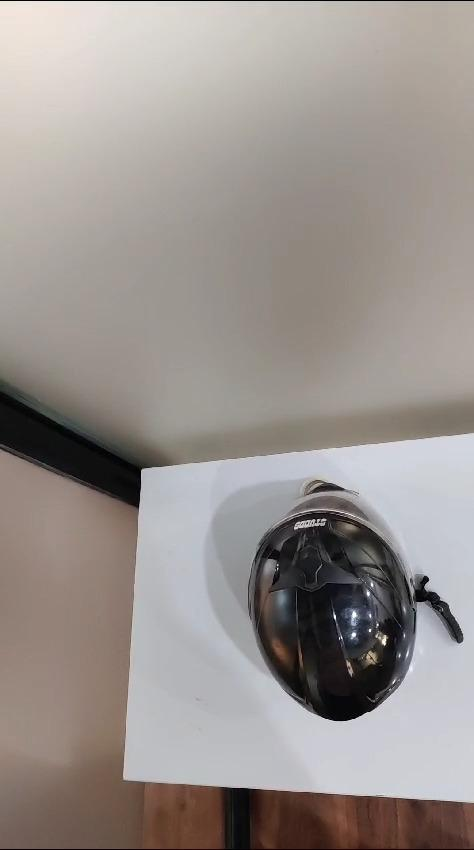Helmet: (249, 480, 462, 721)
